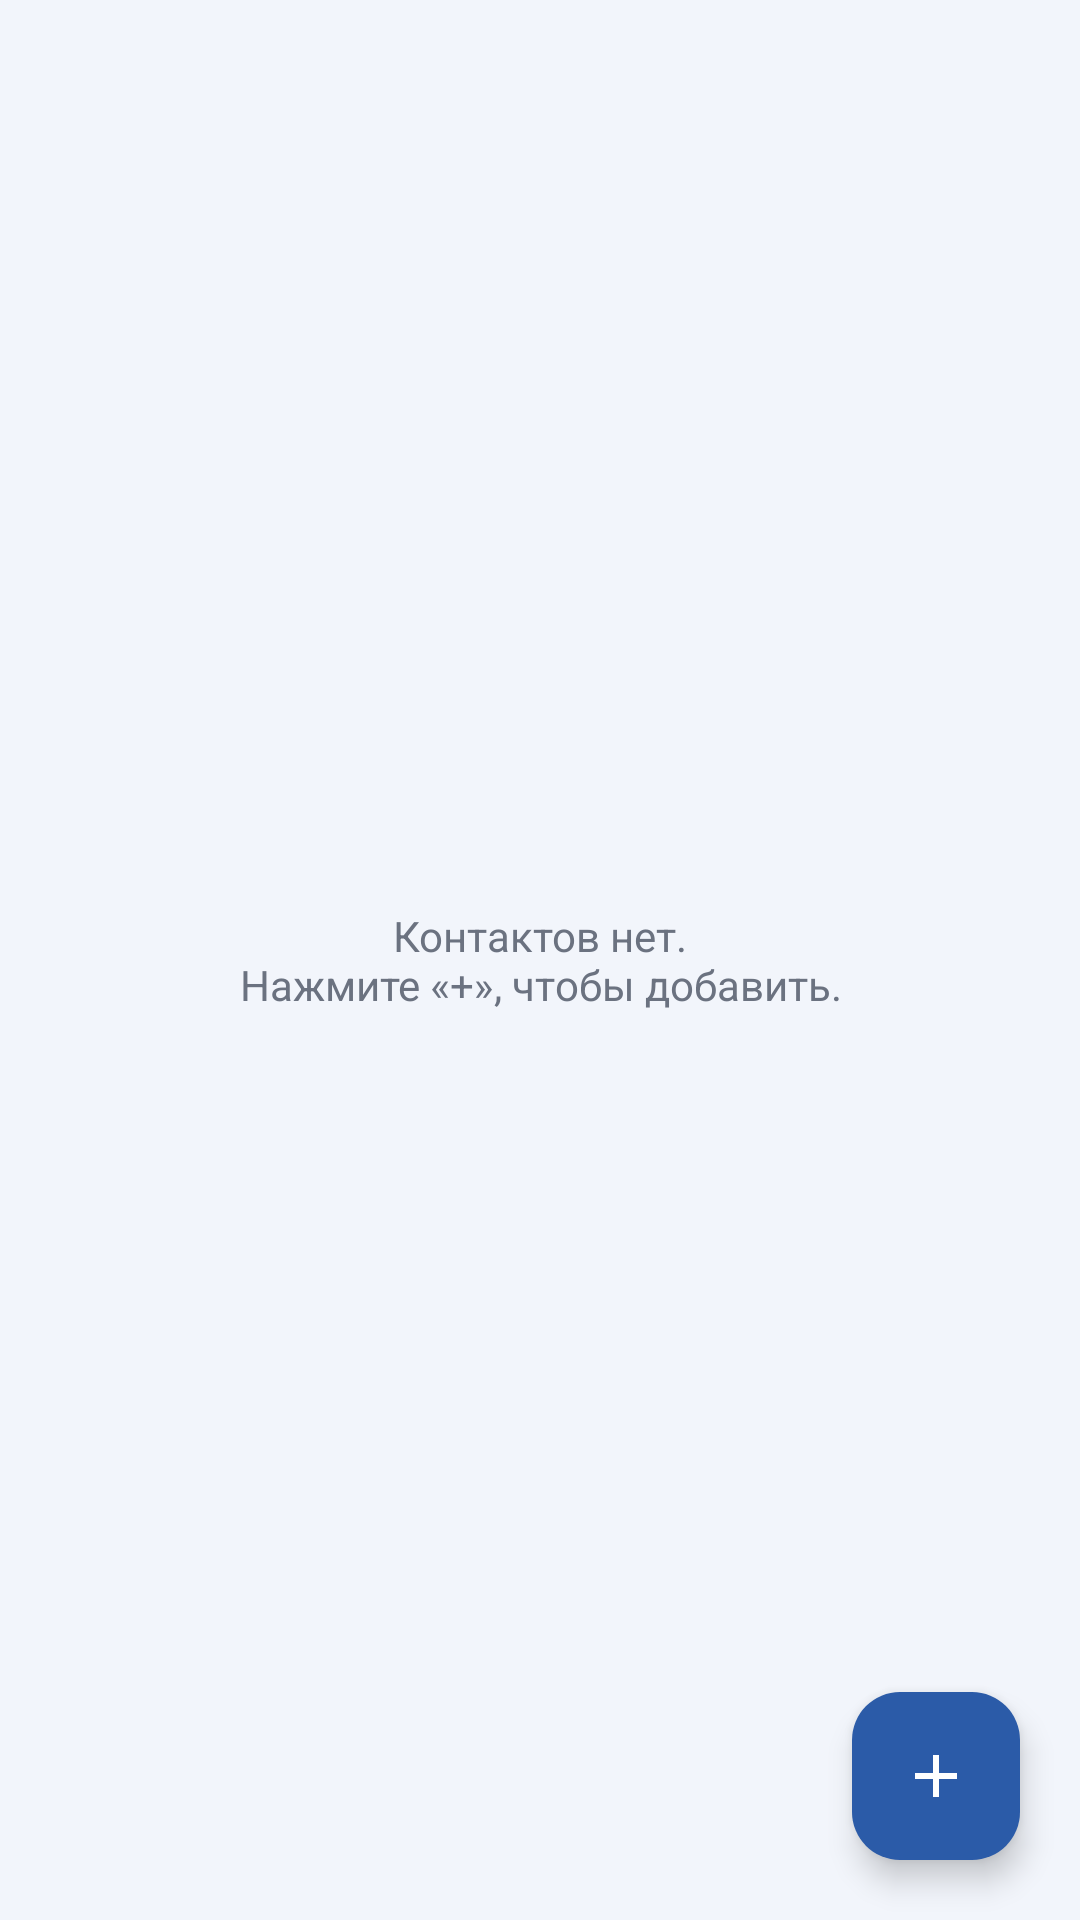

Where icons sit on this 1080 × 1920 app screen, as rect(x1, y1, x2, y2):
Новый контакт: rect(852, 1692, 1020, 1860)
